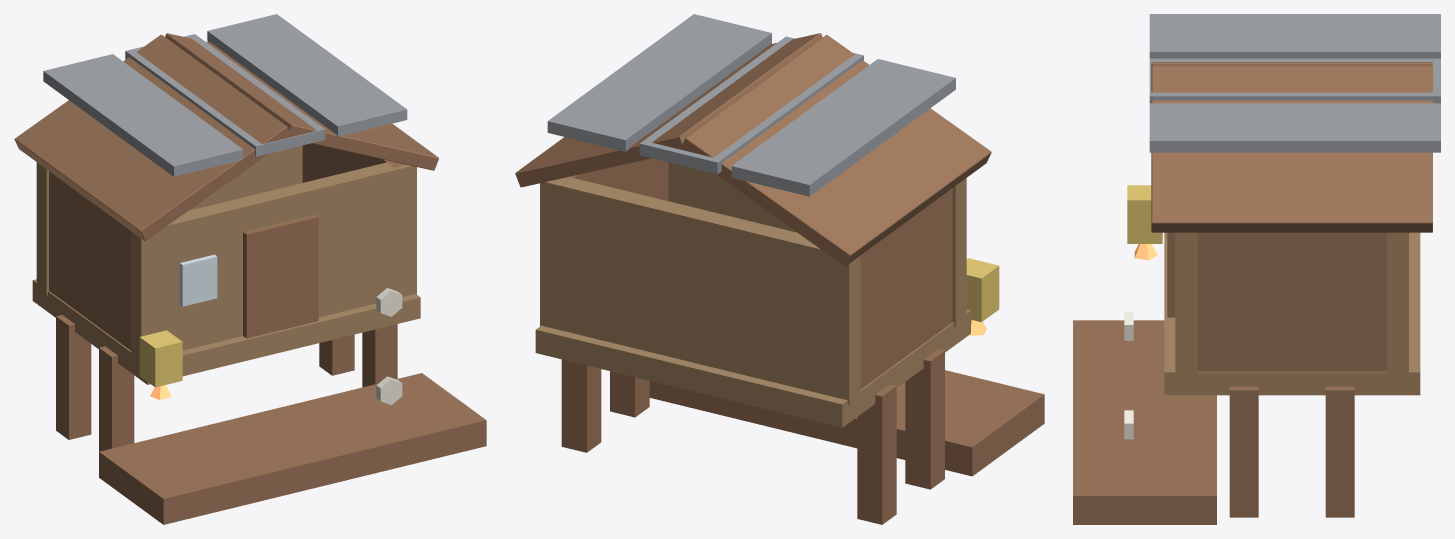
File: fisher_hut.glb
The picture shows the model from 3 angles, left to right: view 1: azimuth 30°, elevation 25°; view 2: azimuth 150°, elevation 25°; view 3: azimuth 270°, elevation 25°; orthographic projection. The views are drawn at different scales.
Parts seen in each view (by area): view 1: pier; view 2: pier; view 3: pier.
Part boxes in pixels (left/top/right/bottom): pier: left=14, top=14, right=486, bottom=524; pier: left=515, top=14, right=1044, bottom=524; pier: left=1073, top=14, right=1440, bottom=524.
Bounding box in the file's own units: 2.6 × 2.59 × 2.3.
